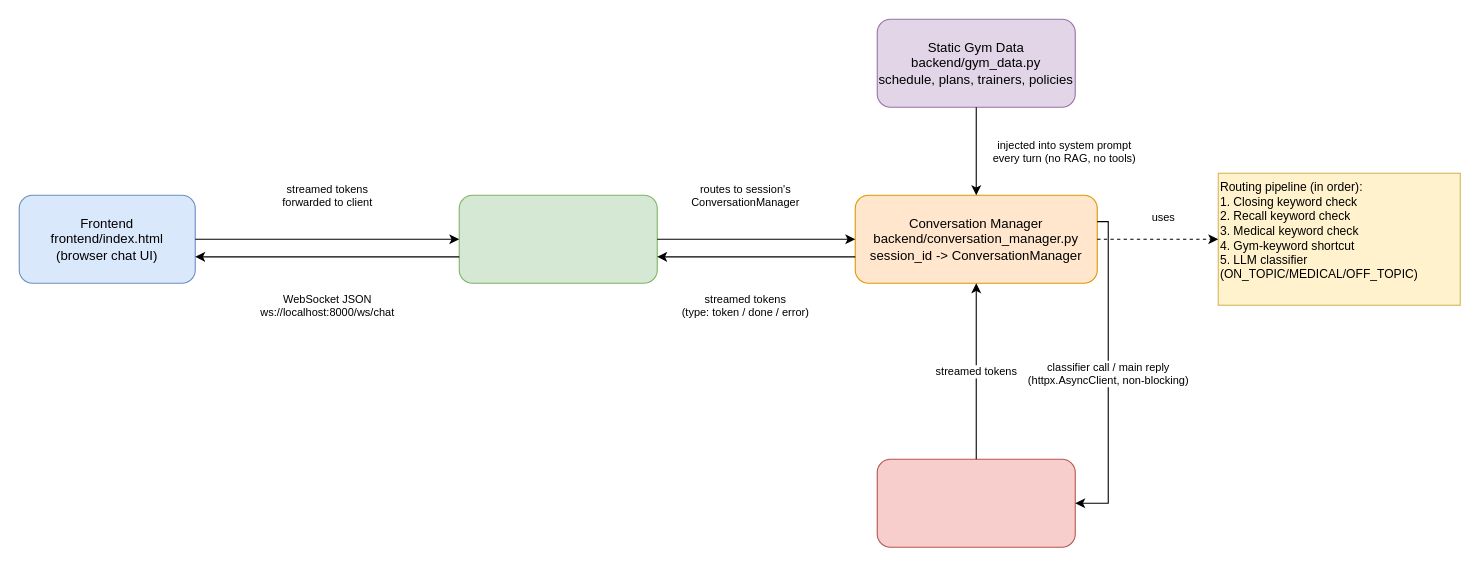
This 1480x567 diagram has some shape labels left out. The centre of each missing label's shape, as x and y in pixels:
"FastAPI Backend backend/main.py /ws/chat WebSocket endpoint" belongs at (557,238).
"Ollama (local) qwen2.5:1.5b-instruct-q4_K_M runs on CPU" belongs at (975,502).
